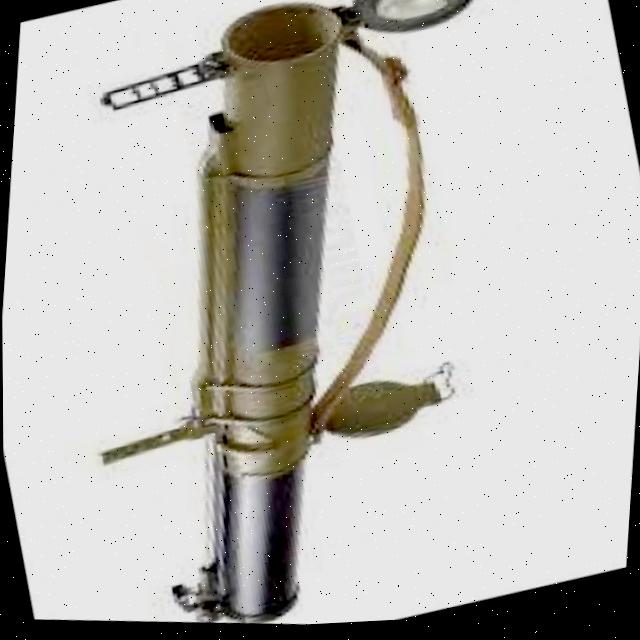rocket: (11, 0, 634, 640)
